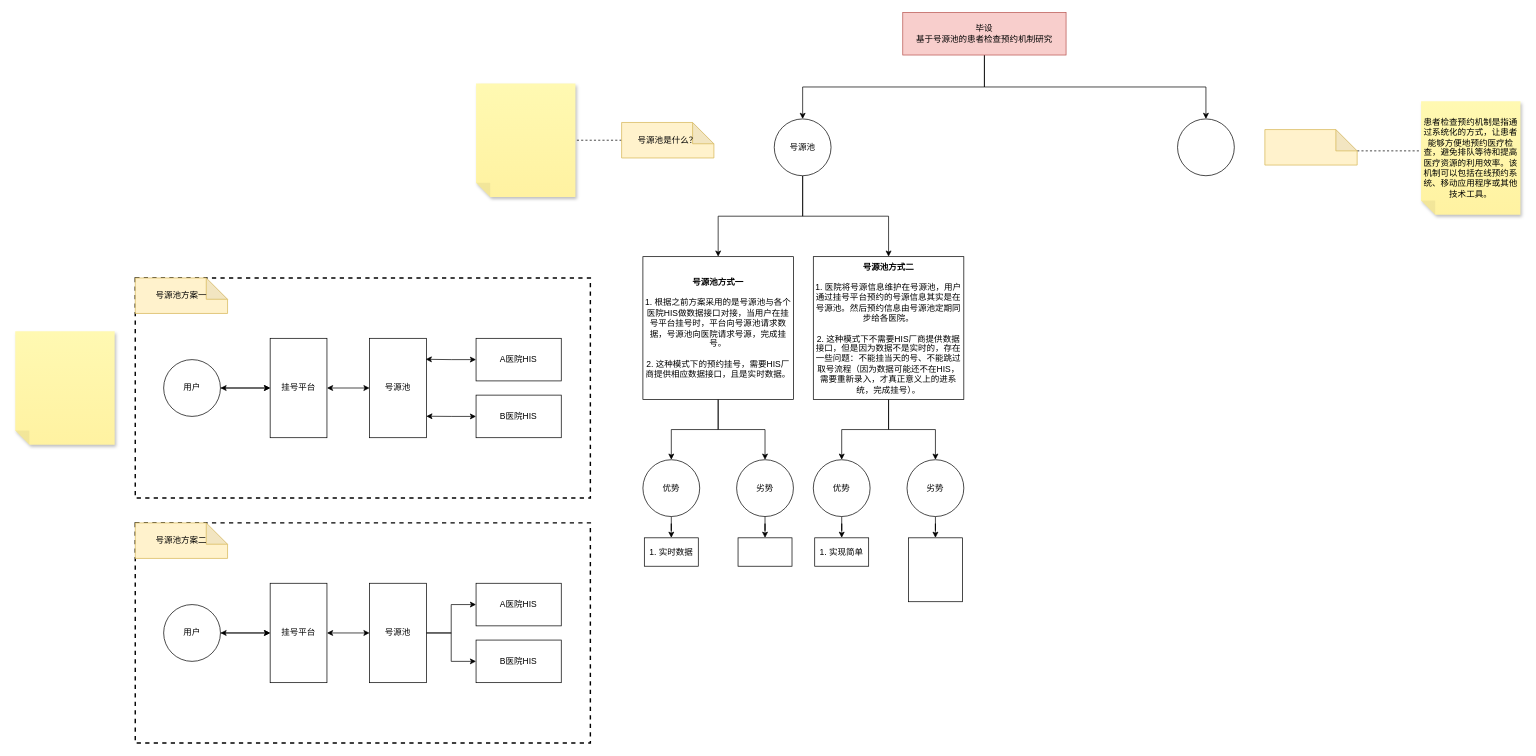
Image size: 1536x756. Some labels were removed from this diagram. The centre of each missing label's shape, as x and y in pixels:
"1. 实现复杂" goes at [764,551].
"1. 延迟数据 2. 不可预约当天的检查 3. 不能跳过预约取号流程" goes at [935,569].
"HIS 医院信息管理系统" goes at [65,388].
"号源池是指为患者提供医疗服务的可用时间槽或资源的集合。在医疗机构中，号源池用于管理和分配医生的工作时间和诊疗设备的使用时间。" goes at [526,141].
"检查预约" goes at [1205,147].
"检查预约是什么？" goes at [1310,147].
